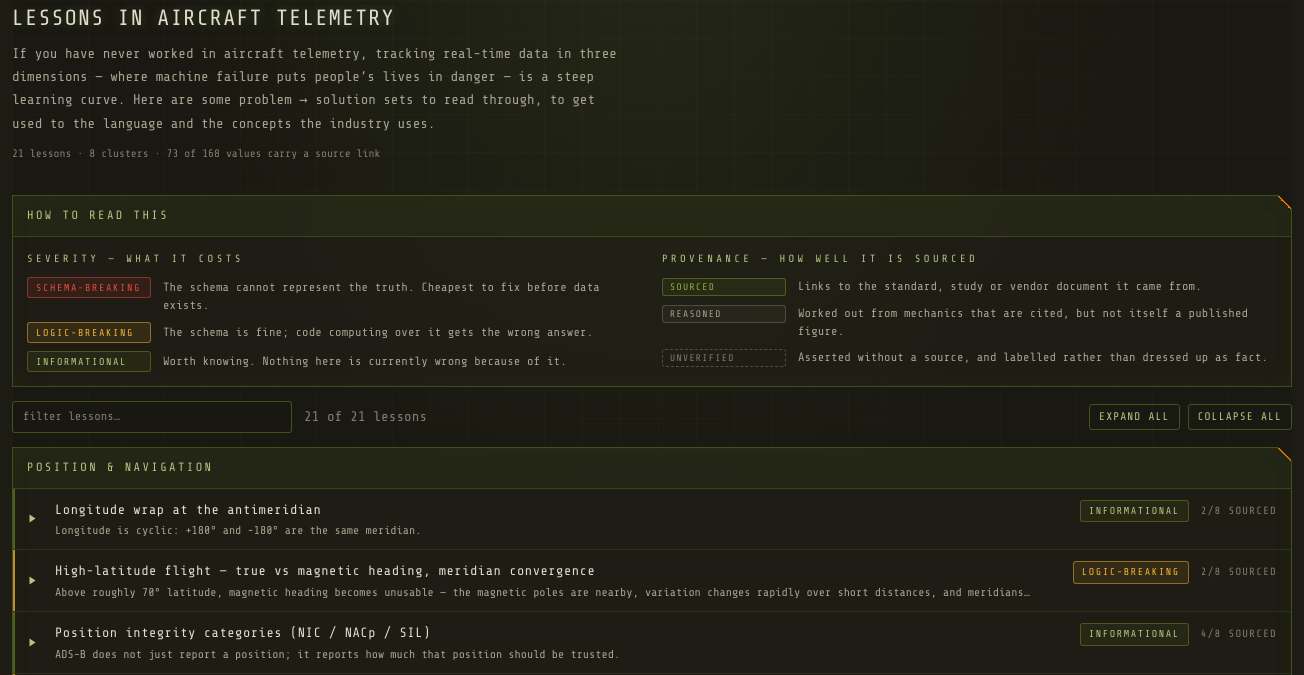
it: Research page › opens a case on click and closes it again
The width and height of the screenshot is (1304, 675).
Click the button that starts with "Longitude wrap at the antimeridian" at [188, 509], box left=13, top=488, right=1291, bottom=549
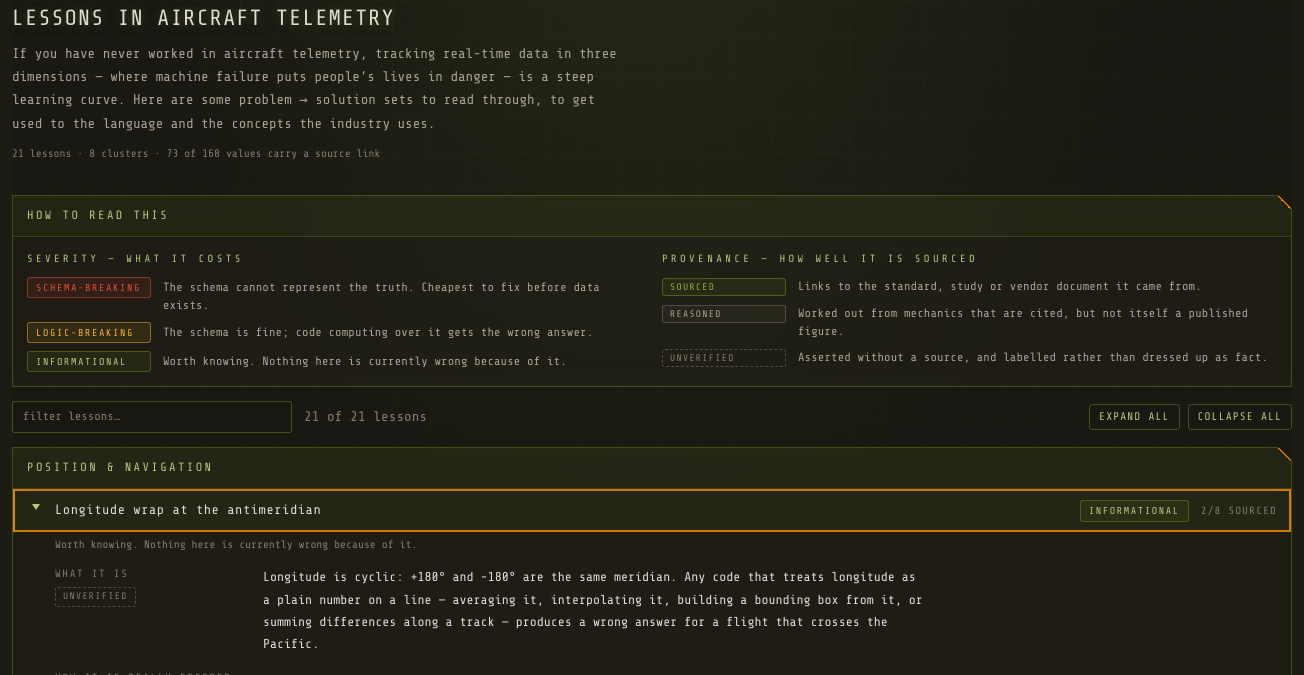
Check: the text "Longitude is cyclic: +180° and -180° are the same meridian. Any code that treats longitude as a plain number on a line —" is shown, box left=263, top=569, right=923, bottom=651
Click the button "Longitude wrap at the antimeridian informational 2/8 sourced" at [188, 509], box left=13, top=488, right=1291, bottom=532
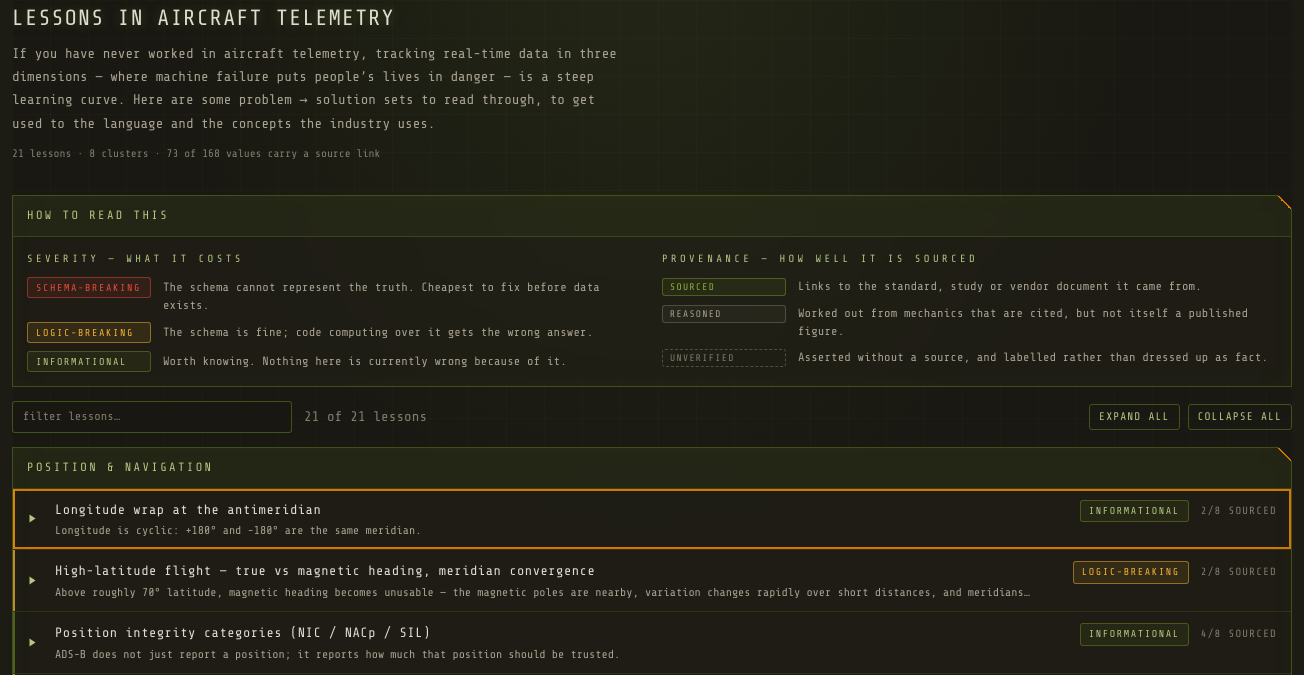
Check: the text "Longitude is cyclic: +180° and -180° are the same meridian. Any code that treats longitude as a plain number on a line —" is gone
